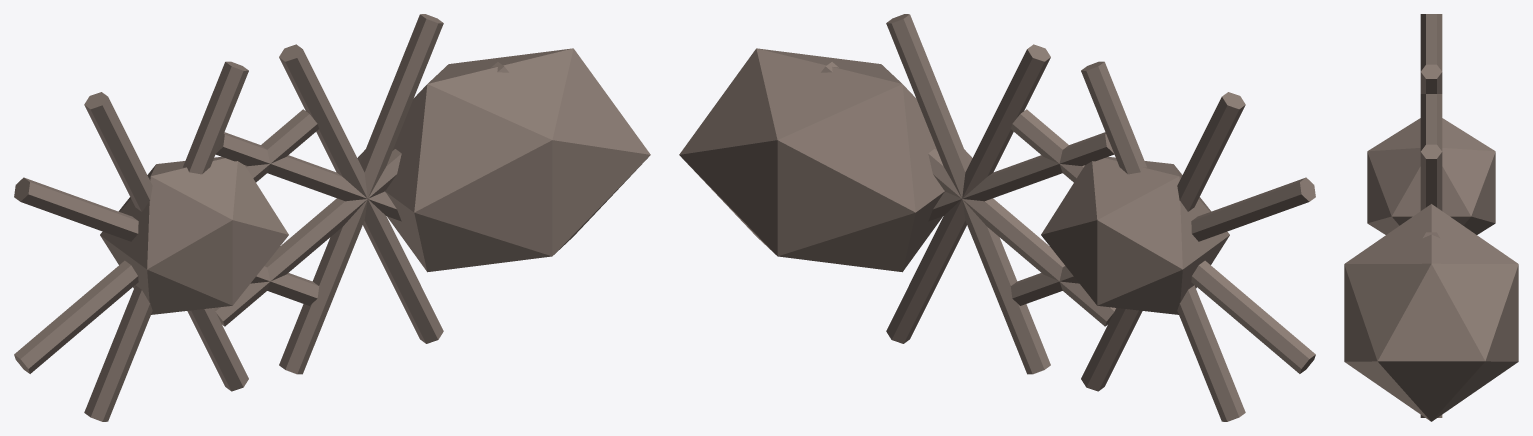
The model's file is tarantula.glb.
3 views of the same model, side by side, from view 1: azimuth 30°, elevation 25°; view 2: azimuth 150°, elevation 25°; view 3: azimuth 270°, elevation 25° (orthographic). The views are drawn at different scales.
Parts seen in each view (by area): view 1: world; view 2: world; view 3: world.
Boxes of the visible parts, x1,y1,x2,y2 form: world: (14,14,650,421); world: (679,14,1315,421); world: (1344,14,1518,421).
Bounding box in the file's own units: 1.08 × 0.5584 × 0.3232.
